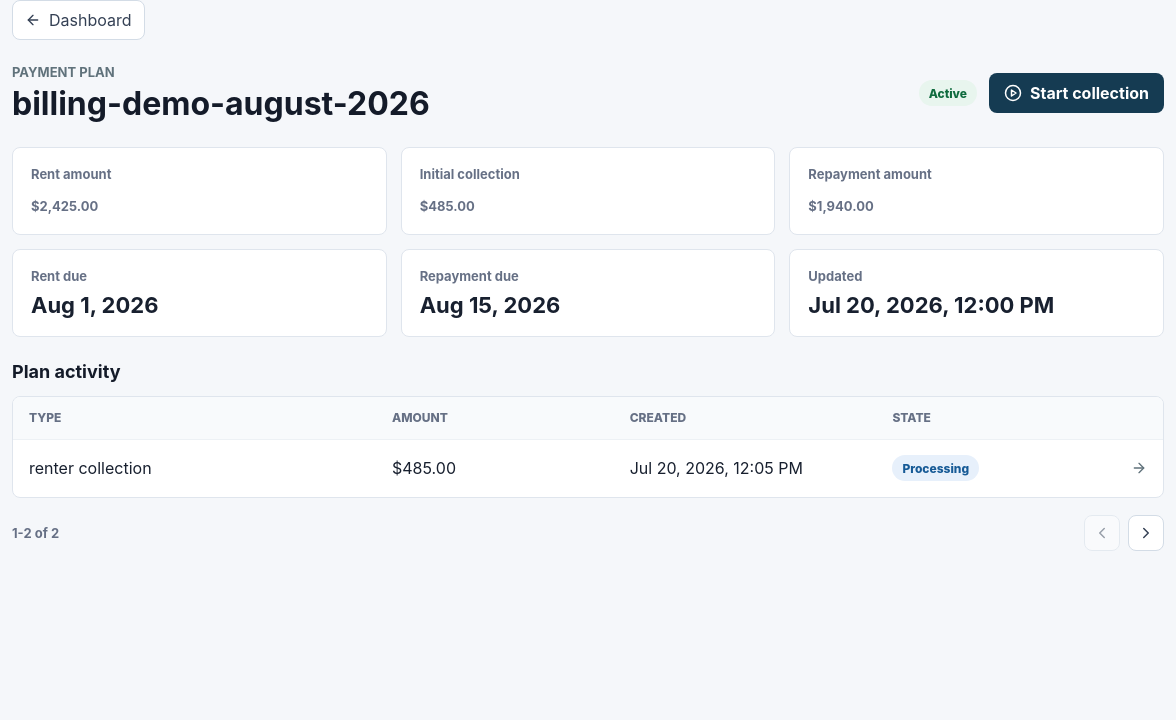
it: PaymentPlanDetailPage › paginates plan-scoped money movements with the paymentPlanId filter
Expected: the text "$485.00" below "Initial collection" is shown, [420,198,475,214]
Click the button named "Plan money movements next page": (1146, 533) [1128,515,1164,551]
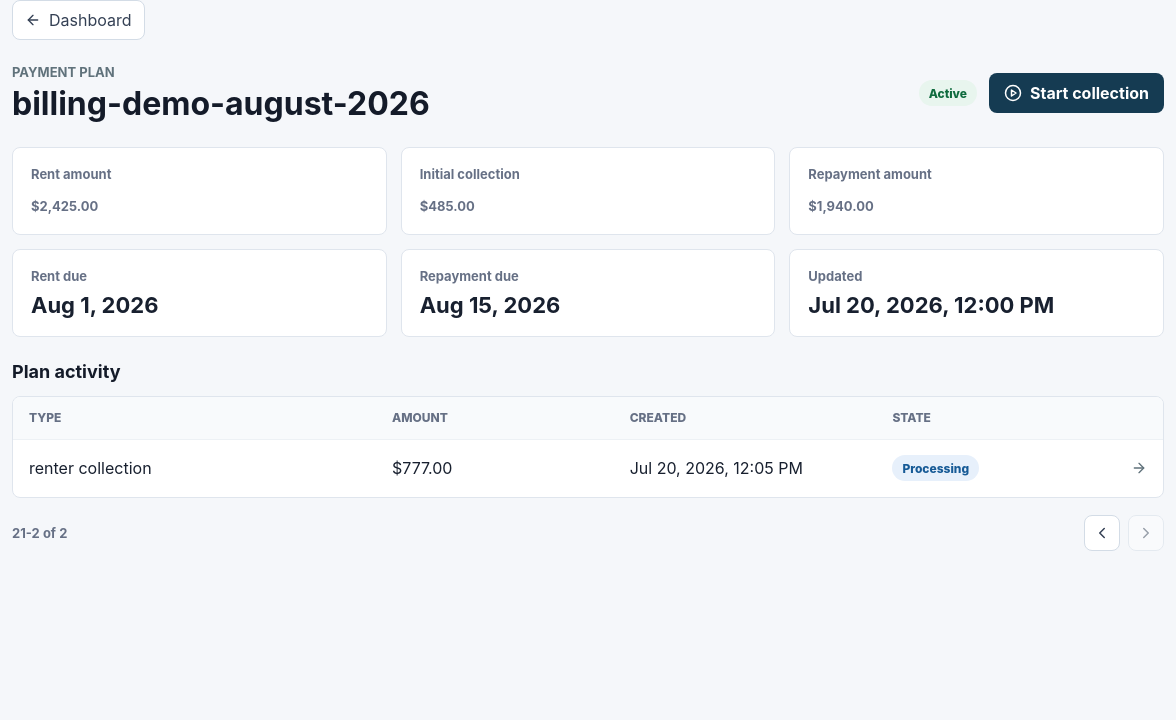
Result: the text "$777.00" is shown at [392,458,452,478]
